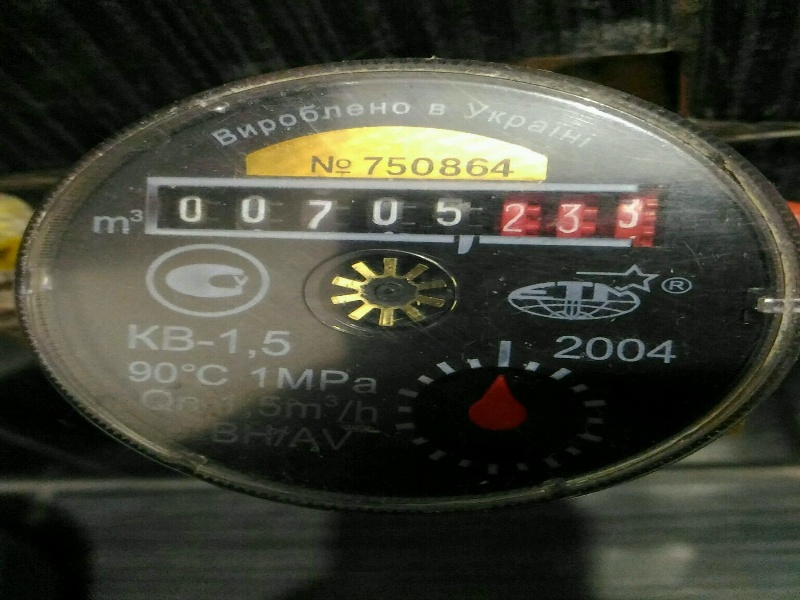meter: (148, 174, 670, 255)
